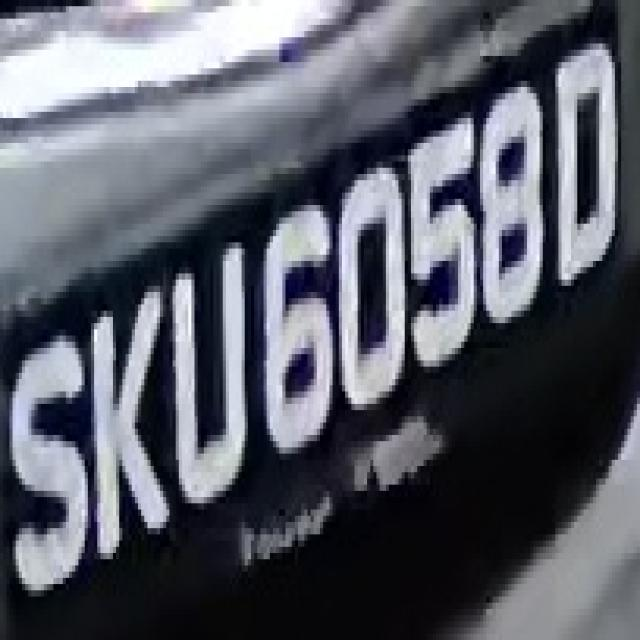0: (333, 137, 414, 410)
5: (398, 112, 486, 373)
6: (257, 192, 339, 460)
8: (477, 74, 549, 330)
D: (559, 31, 621, 292)
K: (91, 274, 166, 560)
S: (3, 317, 97, 615)
U: (170, 248, 254, 504)
